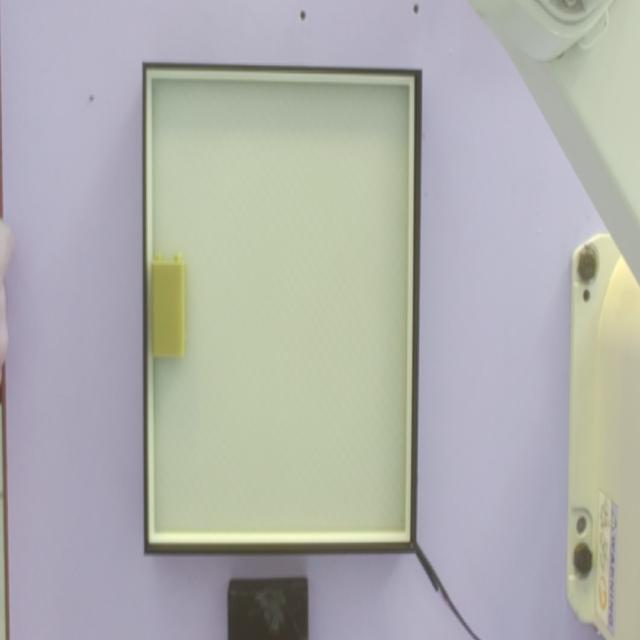bateria: (150, 253, 185, 357)
mesa: (143, 63, 422, 556)
